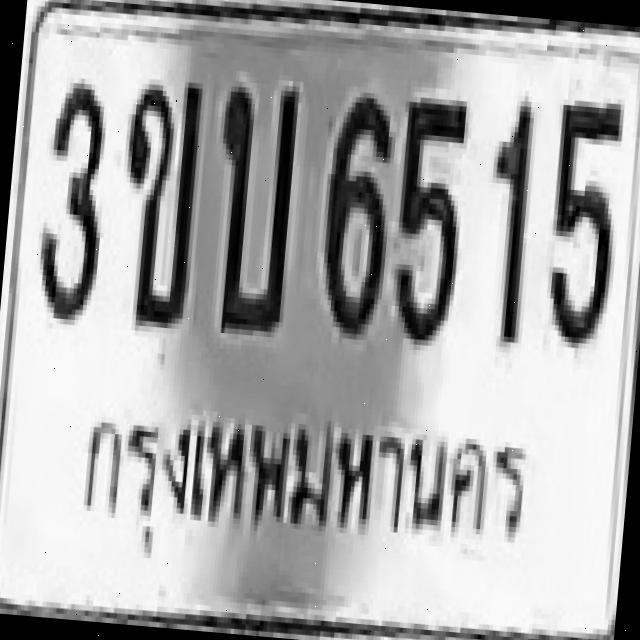1: (476, 96, 537, 345)
11KhorKhai: (110, 75, 203, 326)
3: (30, 76, 111, 322)
35BorBaiMai: (203, 78, 300, 330)
5: (540, 96, 626, 348), (385, 96, 470, 342)
6: (314, 90, 396, 336)
Bangkok: (73, 394, 542, 582)
